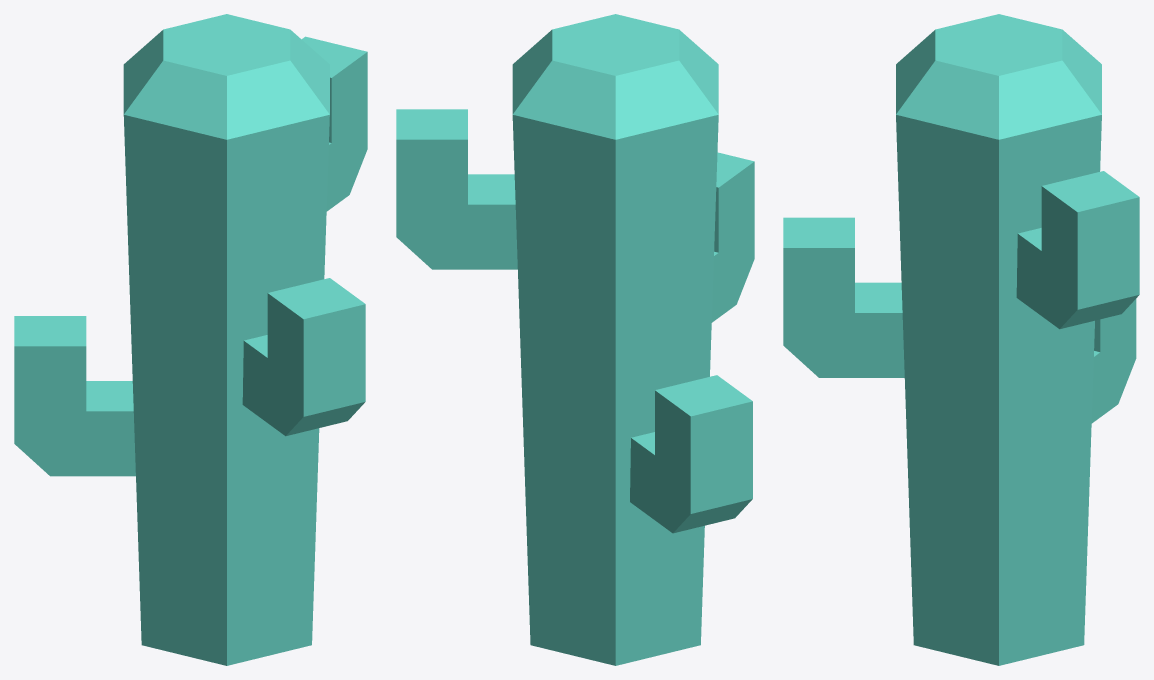
The picture shows the model from 3 angles, left to right: view 1: azimuth 30°, elevation 25°; view 2: azimuth 150°, elevation 25°; view 3: azimuth 270°, elevation 25°; orthographic projection.
Parts seen in each view (by area): view 1: cactus_short; view 2: cactus_short; view 3: cactus_short.
Part boxes in pixels (<box>): cactus_short: <box>14,14,367,665</box>; cactus_short: <box>396,14,754,665</box>; cactus_short: <box>783,14,1139,665</box>.
Bounding box in the file's own units: 0.3417 × 0.533 × 0.2972.
